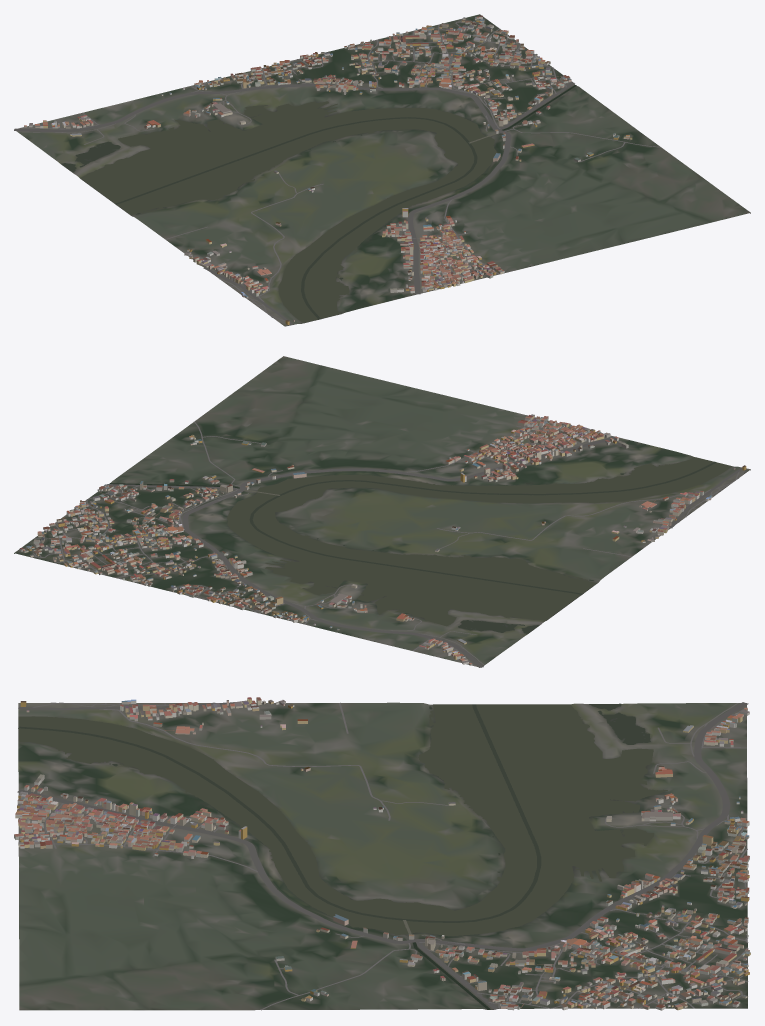
3 renders of one model, top to bottom at view 1: azimuth 30°, elevation 25°; view 2: azimuth 150°, elevation 25°; view 3: azimuth 270°, elevation 25°, orthographic. The views are drawn at different scales.
Visible parts, largest first — view 1: ground, water, buildings, roads; view 2: ground, water, buildings, roads; view 3: ground, water, buildings, roads.
Boxes of the visible parts, x1,y1,x2,y2 form: ground: [14, 14, 750, 326]; water: [61, 85, 576, 322]; buildings: [24, 15, 632, 324]; roads: [14, 18, 660, 325]; ground: [14, 356, 750, 666]; water: [109, 457, 731, 633]; buildings: [19, 414, 746, 665]; roads: [31, 417, 742, 667]; ground: [18, 702, 747, 1010]; water: [18, 703, 667, 1009]; buildings: [14, 697, 750, 1010]; roads: [17, 702, 748, 1010].
Bounding box in the file's own units: 1411 × 30.35 × 1418.
